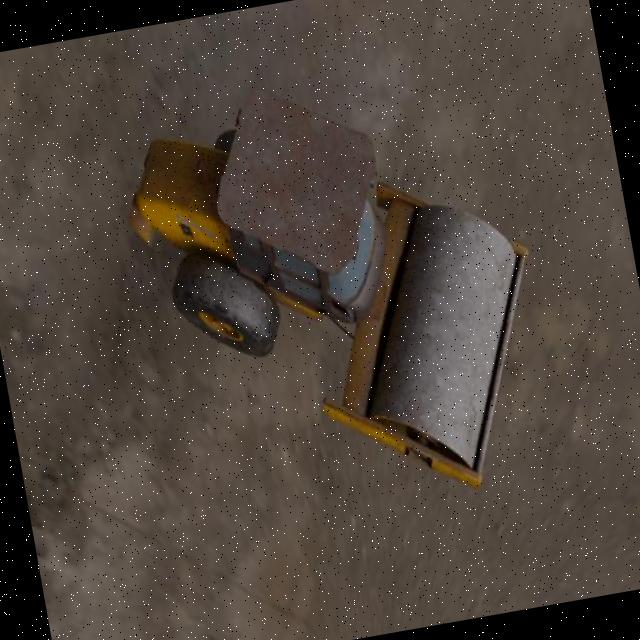Roller: (108, 46, 568, 542)
